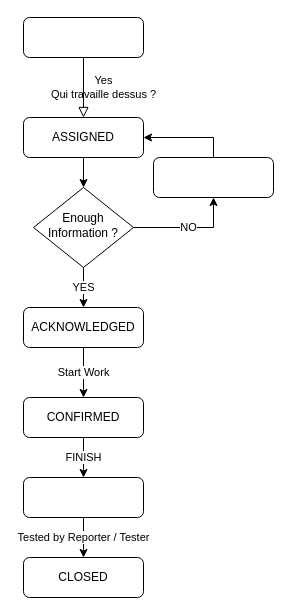
This 291x615 diagram has some shape labels left out. The shapes that lost their labels are listed below. From the top down, each one's centre as x and y in pixels, then its label:
(83,37): NEW
(213,177): FEEDBACK
(83,497): RESOLVED
